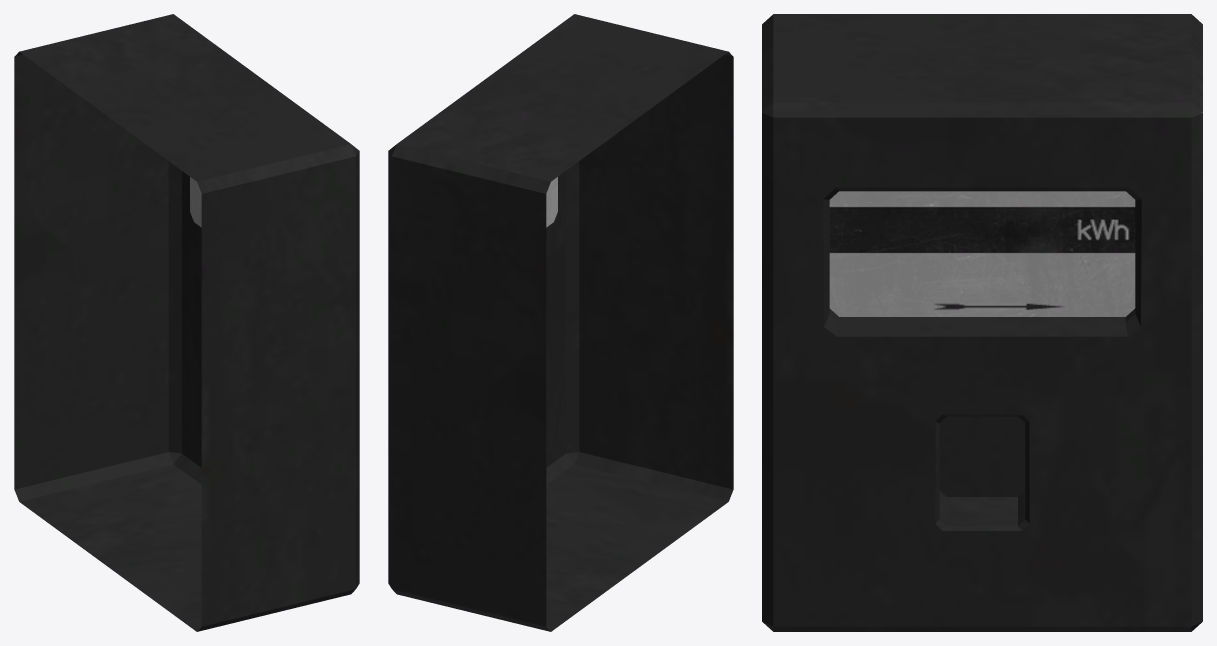
File: FusetableNew.fbx
3 renders of one model, left to right at view 1: azimuth 30°, elevation 25°; view 2: azimuth 150°, elevation 25°; view 3: azimuth 270°, elevation 25°, orthographic. The views are drawn at different scales.
Parts seen in each view (by area): view 1: Fusetable; view 2: Fusetable; view 3: Fusetable.
Boxes of the visible parts, x1=… form: Fusetable: x1=14, y1=14, x2=359, y2=631; Fusetable: x1=388, y1=14, x2=733, y2=631; Fusetable: x1=762, y1=14, x2=1202, y2=631.
Bounding box in the file's own units: 75.6 × 200 × 151.
